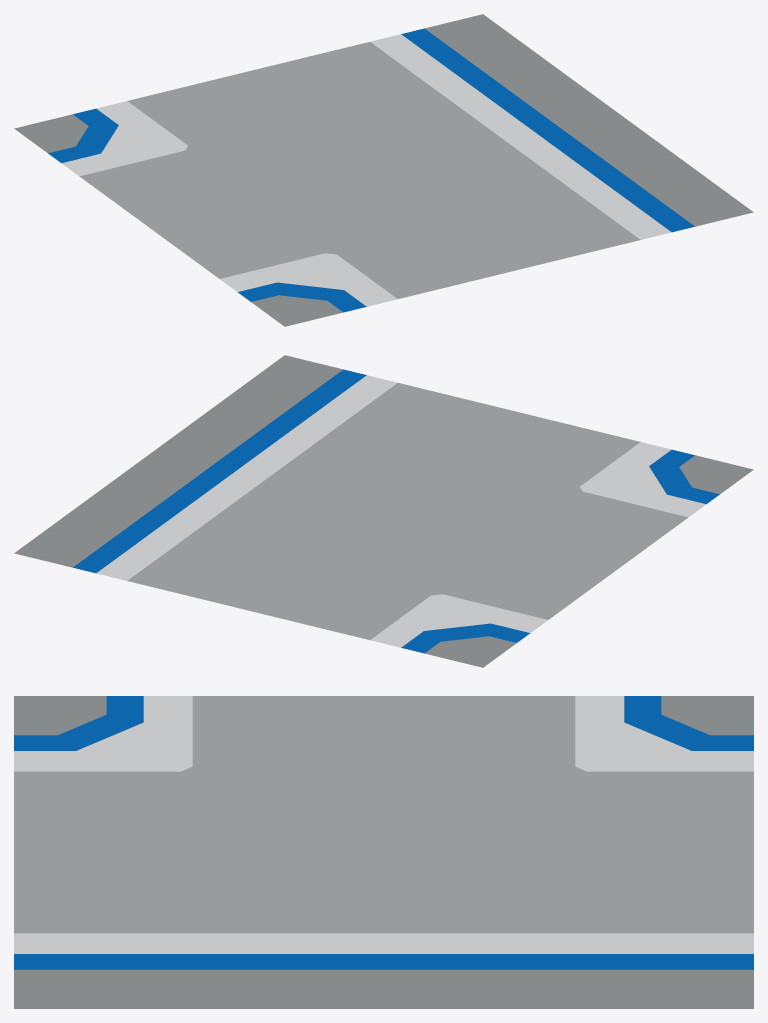
The model's file is Ceiling_type_A_008.004.fbx.
3 views of the same model, one above another, from view 1: azimuth 30°, elevation 25°; view 2: azimuth 150°, elevation 25°; view 3: azimuth 270°, elevation 25° (orthographic). The views are drawn at different scales.
Visible parts, largest first — view 1: Ceiling_type_A_008.004; view 2: Ceiling_type_A_008.004; view 3: Ceiling_type_A_008.004.
Part boxes in pixels (x1,y1,x2,y2): Ceiling_type_A_008.004: [14, 14, 753, 326]; Ceiling_type_A_008.004: [14, 355, 753, 667]; Ceiling_type_A_008.004: [14, 696, 753, 1008].
Bounding box in the file's own units: 400 × 400 × 4.55.
